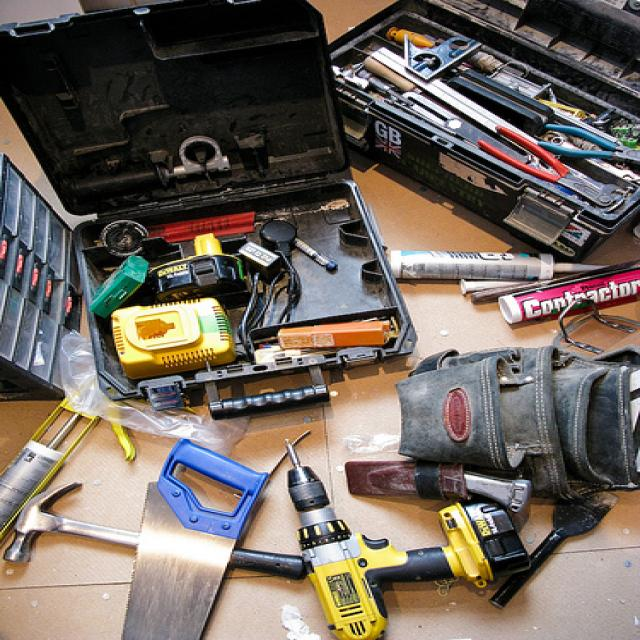hammer: (0, 469, 160, 580)
